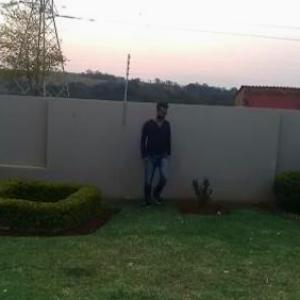follow: (137, 99, 170, 210)
